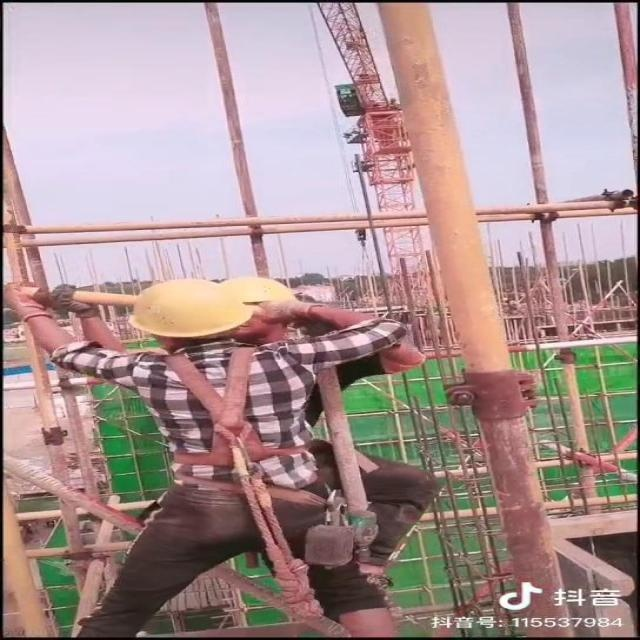Arnes_seguridad: (134, 341, 326, 500)
